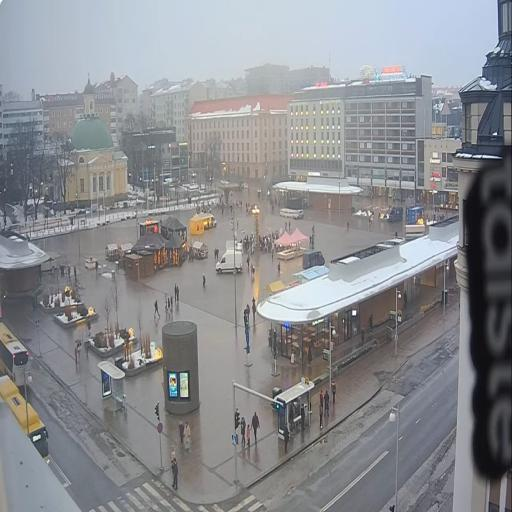Bus: (0, 376, 49, 462), (0, 321, 29, 387)
